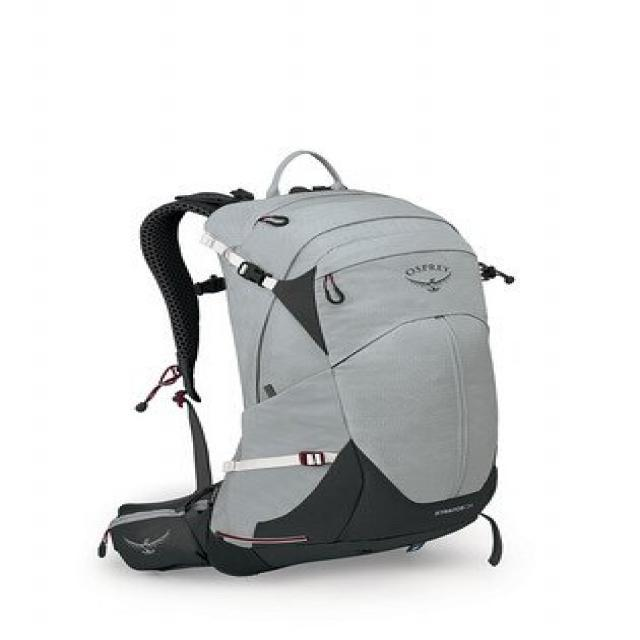Backpacks: (184, 187, 511, 579)
